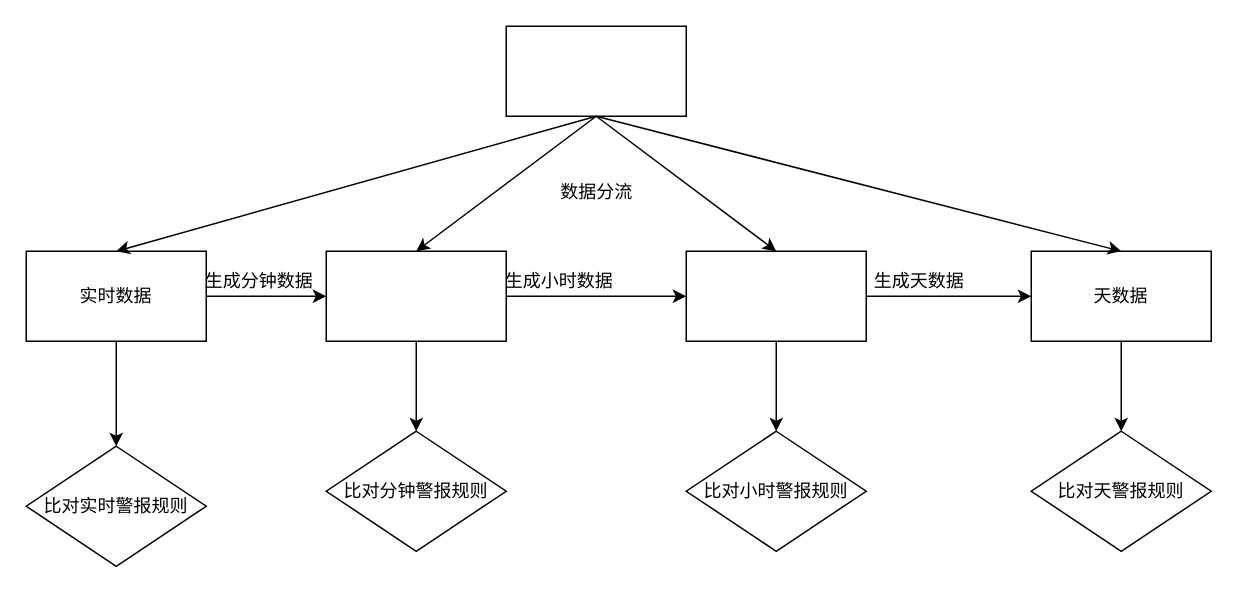
Image size: 1238x593. Some labels were removed from this diagram. Here are the shapes that lost their labels. From the top down, the centre of each, then its label:
At (x=595, y=70): "全部数据".
At (x=415, y=295): "分钟数据".
At (x=775, y=295): "小时数据".
